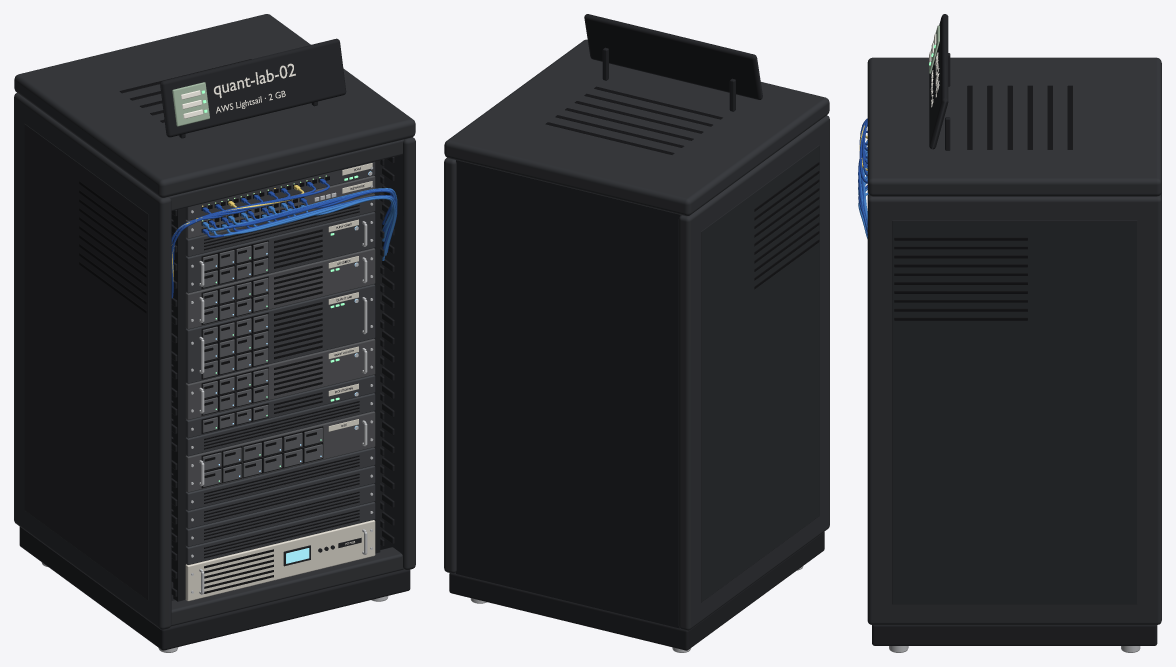
Rendered from rack.glb.
The picture shows the model from 3 angles, left to right: view 1: azimuth 30°, elevation 25°; view 2: azimuth 150°, elevation 25°; view 3: azimuth 270°, elevation 25°; orthographic projection. The views are drawn at different scales.
Parts seen in each view (by area): view 1: rack_frame, unit__quant-lab_body, unit__disk_body, unit__power_body, unit__quant-lab-demo_body, unit__ur-check_body, unit__puny-chat_body, unit__network_body, unit__blank-2_body, unit__blank-fill-0_body, unit__blank-3_body, unit__blank-fill-2_body (+4 smaller); view 2: rack_frame; view 3: rack_frame, unit__network_body.
Boxes of the visible parts, box(x1,y1,x2,y2) form: rack_frame: box(14, 14, 415, 652); unit__quant-lab_body: box(171, 284, 375, 383); unit__disk_body: box(171, 411, 375, 492); unit__power_body: box(171, 520, 375, 601); unit__quant-lab-demo_body: box(171, 338, 375, 419); unit__ur-check_body: box(171, 248, 375, 329); unit__puny-chat_body: box(172, 212, 375, 293); unit__network_body: box(171, 175, 397, 260); unit__blank-2_body: box(171, 393, 375, 456); unit__blank-fill-0_body: box(171, 465, 375, 528); unit__blank-3_body: box(171, 447, 375, 510); unit__blank-fill-2_body: box(171, 502, 375, 564); rack_frame: box(444, 14, 829, 652); rack_frame: box(867, 14, 1161, 652); unit__network_body: box(858, 140, 868, 238).
Bounding box in the file's own units: 0.6644 × 1.34 × 0.681.
